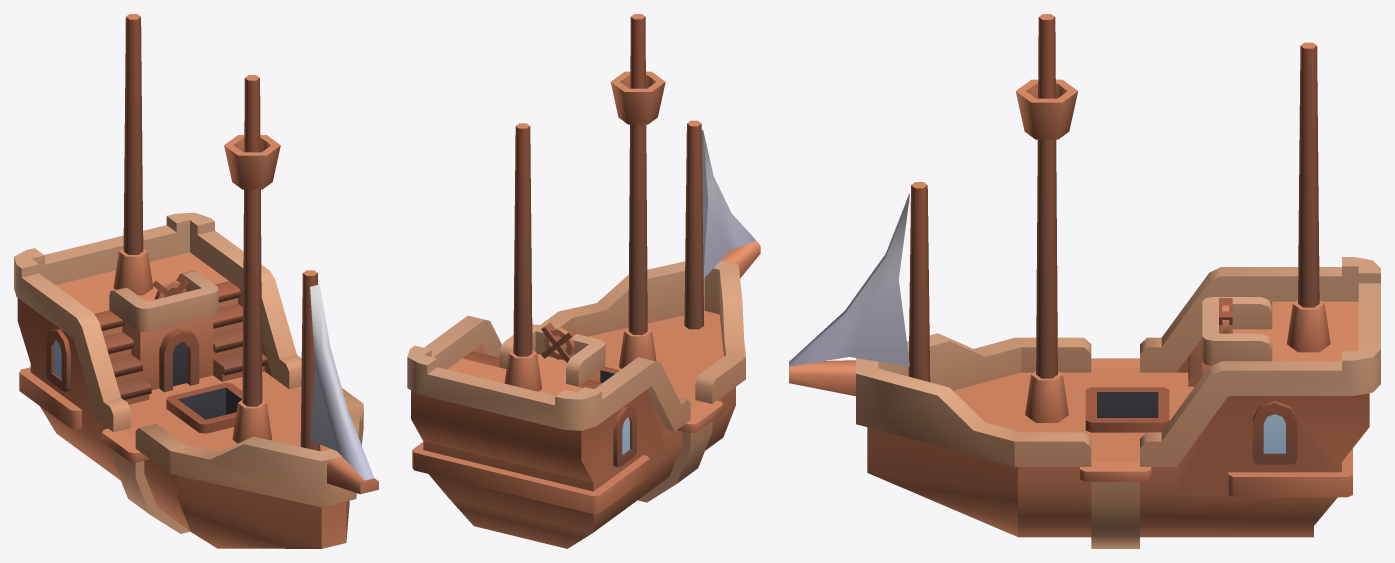
File: frigate.glb
3 views of the same model, side by side, from view 1: azimuth 30°, elevation 25°; view 2: azimuth 150°, elevation 25°; view 3: azimuth 270°, elevation 25° (orthographic). The views are drawn at different scales.
Parts seen in each view (by area): view 1: frigate; view 2: frigate; view 3: frigate.
Part boxes in pixels (x1,y1,x2,y2): frigate: [14, 14, 378, 548]; frigate: [407, 14, 760, 548]; frigate: [789, 14, 1380, 548].
Bounding box in the file's own units: 1.57 × 3.26 × 3.47.
1 material, 1 textured.
